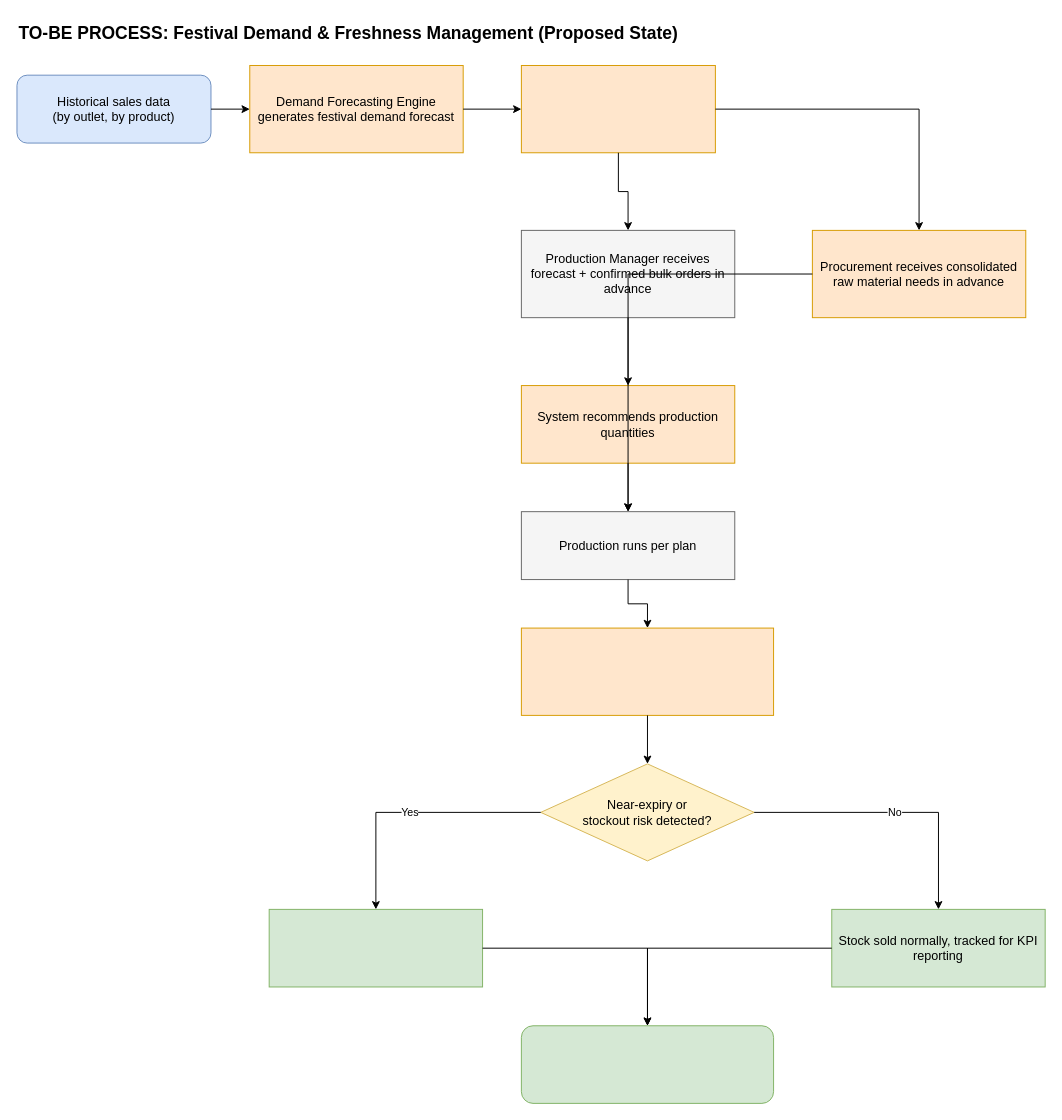
This 1062x1120 diagram has some shape labels left out. The shapes that lost their labels are listed below. From the top down, each one's centre as x and y in pixels, then its label:
At (x=617, y=109): "Consolidated demand forecast shared per outlet".
At (x=647, y=671): "System tracks batch-level inventory & expiry in real time, across all outlets".
At (x=375, y=947): "System recommends discount or inter-outlet transfer".
At (x=647, y=1064): "Finance & Owner Dashboard: wastage cost, fulfilment rate, KPIs".
